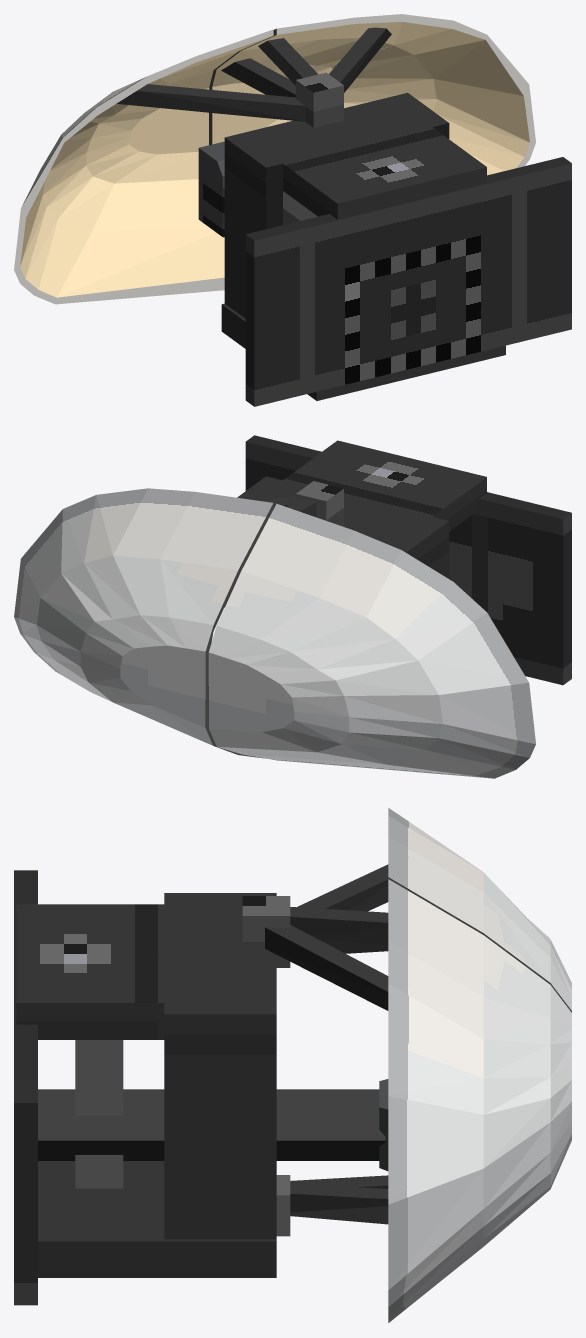
The model's file is closed.obj.
The picture shows the model from 3 angles, top to bottom: view 1: azimuth 30°, elevation 25°; view 2: azimuth 150°, elevation 25°; view 3: azimuth 270°, elevation 25°; orthographic projection. The views are drawn at different scales.
Visible parts, largest first — view 1: 0962fef9-bd94-2db1-076d-97992ba30964, 02bea73a-2489-c928-ea13-135e158d13ba, fa4530d8-c42a-d7e3-6b35-3ea18985c9d9, f74cad95-1340-84e8-f265-bf94d7a523b9, ed8c7c47-cb8e-ee15-8927-91ce12ae93d8, bb3a4c05-1d27-01a5-7d35-f9c54dc55973, 582c4be1-364e-de89-5554-e0124eec189a, 16c2b85c-7084-ef97-c597-067879421621, b12d359b-80fd-6e53-e38b-0edcabef94b9, 53ff08f4-729b-fee5-e148-7073f7c8b837, fe7ae4be-e643-17ee-8fa7-4b8a651b505f, 60e28ac2-fed7-7b1e-1ac3-ba17e4b36866 (+2 smaller); view 2: 02bea73a-2489-c928-ea13-135e158d13ba, fa4530d8-c42a-d7e3-6b35-3ea18985c9d9, 0962fef9-bd94-2db1-076d-97992ba30964, f74cad95-1340-84e8-f265-bf94d7a523b9, ed8c7c47-cb8e-ee15-8927-91ce12ae93d8, b12d359b-80fd-6e53-e38b-0edcabef94b9, f987b9bd-26d7-d699-cf37-7a4ed1ec7127; view 3: fa4530d8-c42a-d7e3-6b35-3ea18985c9d9, f74cad95-1340-84e8-f265-bf94d7a523b9, f987b9bd-26d7-d699-cf37-7a4ed1ec7127, 582c4be1-364e-de89-5554-e0124eec189a, 1ba914a0-983b-e564-eff5-cdfeb9176747, 02bea73a-2489-c928-ea13-135e158d13ba, 0962fef9-bd94-2db1-076d-97992ba30964, 84157b1f-aade-cc7c-2edd-dda267297ce6, 53ff08f4-729b-fee5-e148-7073f7c8b837, 0cd70d1d-1204-0c7e-fda6-d2721a6ed5f1, 60e28ac2-fed7-7b1e-1ac3-ba17e4b36866, b12d359b-80fd-6e53-e38b-0edcabef94b9 (+5 smaller).
Part boxes in pixels (<box>): 0962fef9-bd94-2db1-076d-97992ba30964: <box>245,157,571,406</box>; 02bea73a-2489-c928-ea13-135e158d13ba: <box>14,29,273,304</box>; fa4530d8-c42a-d7e3-6b35-3ea18985c9d9: <box>209,14,535,175</box>; f74cad95-1340-84e8-f265-bf94d7a523b9: <box>242,97,486,219</box>; ed8c7c47-cb8e-ee15-8927-91ce12ae93d8: <box>224,133,282,318</box>; bb3a4c05-1d27-01a5-7d35-f9c54dc55973: <box>116,84,305,121</box>; 582c4be1-364e-de89-5554-e0124eec189a: <box>221,303,505,400</box>; 16c2b85c-7084-ef97-c597-067879421621: <box>198,141,283,237</box>; b12d359b-80fd-6e53-e38b-0edcabef94b9: <box>296,72,343,127</box>; 53ff08f4-729b-fee5-e148-7073f7c8b837: <box>329,27,391,92</box>; fe7ae4be-e643-17ee-8fa7-4b8a651b505f: <box>221,58,295,97</box>; 60e28ac2-fed7-7b1e-1ac3-ba17e4b36866: <box>258,38,318,85</box>; 02bea73a-2489-c928-ea13-135e158d13ba: <box>208,503,535,778</box>; fa4530d8-c42a-d7e3-6b35-3ea18985c9d9: <box>14,488,273,758</box>; 0962fef9-bd94-2db1-076d-97992ba30964: <box>245,435,571,685</box>; f74cad95-1340-84e8-f265-bf94d7a523b9: <box>256,440,486,546</box>; ed8c7c47-cb8e-ee15-8927-91ce12ae93d8: <box>393,517,449,578</box>; b12d359b-80fd-6e53-e38b-0edcabef94b9: <box>296,481,343,523</box>; f987b9bd-26d7-d699-cf37-7a4ed1ec7127: <box>224,476,282,607</box>; fa4530d8-c42a-d7e3-6b35-3ea18985c9d9: <box>388,879,571,1322</box>; f74cad95-1340-84e8-f265-bf94d7a523b9: <box>16,904,276,1039</box>; f987b9bd-26d7-d699-cf37-7a4ed1ec7127: <box>164,1003,276,1239</box>; 582c4be1-364e-de89-5554-e0124eec189a: <box>38,1161,276,1277</box>; 1ba914a0-983b-e564-eff5-cdfeb9176747: <box>38,1089,385,1160</box>; 02bea73a-2489-c928-ea13-135e158d13ba: <box>388,808,571,1012</box>; 0962fef9-bd94-2db1-076d-97992ba30964: <box>14,870,37,1305</box>; 84157b1f-aade-cc7c-2edd-dda267297ce6: <box>75,1040,123,1188</box>; 53ff08f4-729b-fee5-e148-7073f7c8b837: <box>265,925,388,1010</box>; 0cd70d1d-1204-0c7e-fda6-d2721a6ed5f1: <box>290,1183,388,1224</box>; 60e28ac2-fed7-7b1e-1ac3-ba17e4b36866: <box>290,907,388,944</box>; b12d359b-80fd-6e53-e38b-0edcabef94b9: <box>242,896,290,967</box>.
Bounding box in the file's own units: 2.14 × 1.01 × 1.46.
